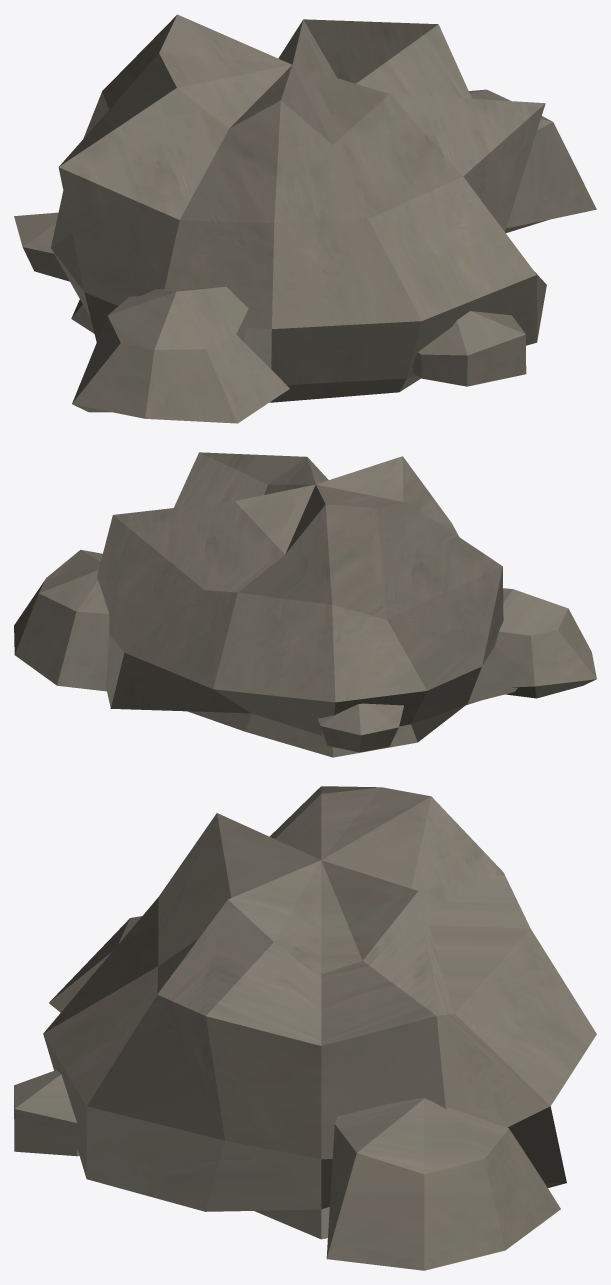
Rendered from rock_large_01.glb.
The picture shows the model from 3 angles, top to bottom: view 1: azimuth 30°, elevation 25°; view 2: azimuth 150°, elevation 25°; view 3: azimuth 270°, elevation 25°; orthographic projection. The views are drawn at different scales.
Visible parts, largest first — view 1: rock_large_01; view 2: rock_large_01; view 3: rock_large_01.
Part boxes in pixels (box(x1,y1,x2,y2)): rock_large_01: box(14, 14, 596, 423); rock_large_01: box(14, 452, 596, 757); rock_large_01: box(14, 786, 596, 1270).
Bounding box in the file's own units: 4.07 × 1.82 × 3.11.
3 materials, 3 textured.
